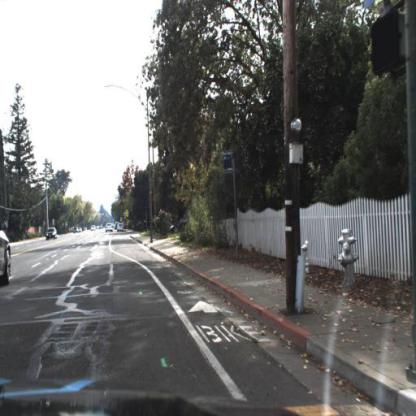car: (1, 207, 15, 304), (44, 224, 60, 244), (104, 219, 116, 235), (116, 221, 128, 233)
